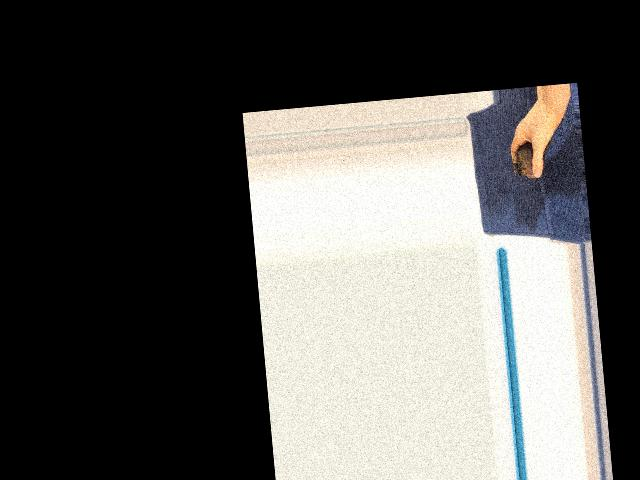beet: (511, 140, 558, 180)
